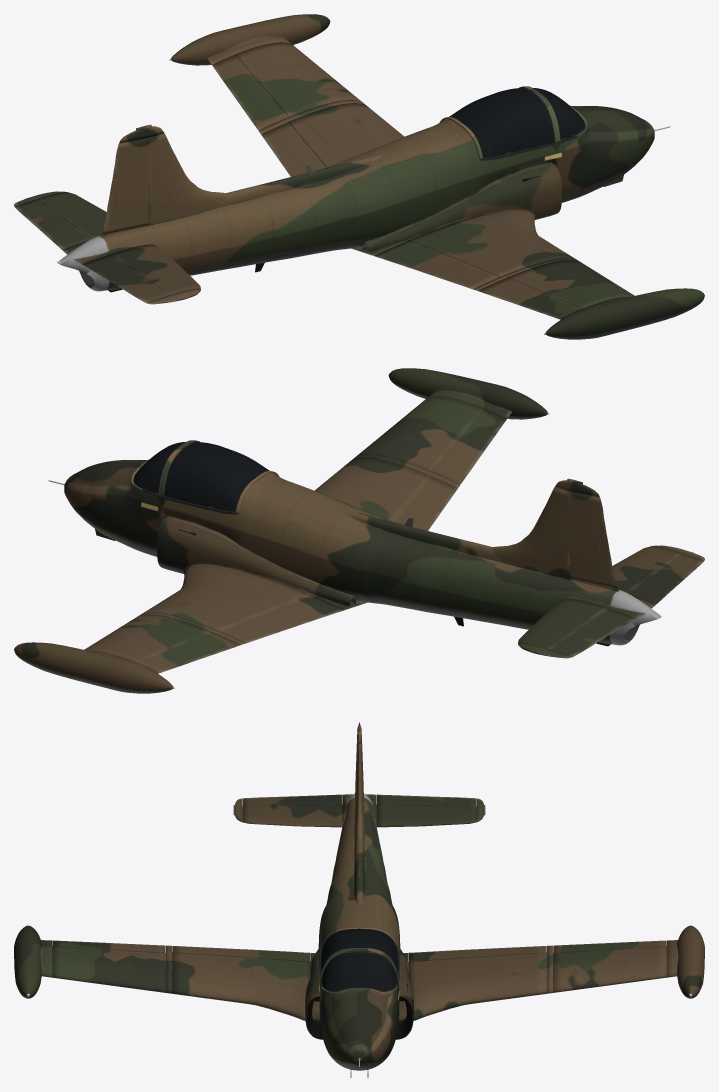
Rendered from fh_hangar_attacker_t1.glb.
The picture shows the model from 3 angles, top to bottom: view 1: azimuth 30°, elevation 25°; view 2: azimuth 150°, elevation 25°; view 3: azimuth 270°, elevation 25°; orthographic projection. The views are drawn at different scales.
Parts seen in each view (by area): view 1: fh_hangar_attacker_t1, flap_r, flap_l, slat_l; view 2: fh_hangar_attacker_t1, flap_l, flap_r, slat_r; view 3: fh_hangar_attacker_t1, slat_l, slat_r, flap_r, flap_l.
Part boxes in pixels (box(x1,y1,x2,y2)): fh_hangar_attacker_t1: box(14, 14, 704, 339); flap_r: box(383, 244, 498, 289); flap_l: box(261, 122, 325, 176); slat_l: box(286, 46, 361, 101); fh_hangar_attacker_t1: box(14, 368, 704, 693); flap_l: box(220, 598, 335, 643); flap_r: box(393, 476, 457, 530); slat_r: box(357, 400, 432, 455); fh_hangar_attacker_t1: box(14, 722, 704, 1077); slat_l: box(553, 966, 659, 992); slat_r: box(59, 966, 165, 992); flap_r: box(172, 946, 296, 960); flap_l: box(422, 946, 546, 960).
Size of the model in its own units: 1 by 0.2737 by 1.1.
Materials: 3 (2 with a texture image).
